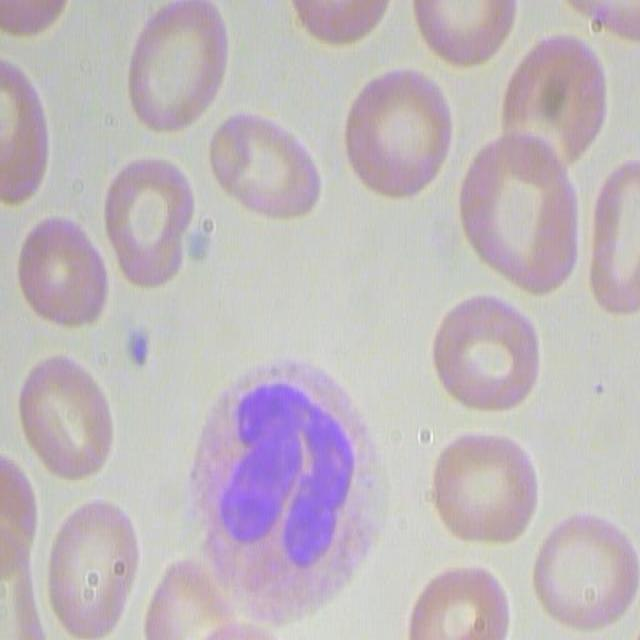RBC: (456, 132, 583, 296), (337, 66, 453, 205), (431, 287, 547, 417), (122, 2, 230, 138), (501, 30, 610, 163), (427, 422, 542, 546), (41, 491, 137, 636), (210, 112, 326, 229), (528, 507, 636, 631), (99, 148, 191, 289), (19, 354, 117, 486), (12, 214, 112, 334), (571, 155, 640, 311), (404, 560, 512, 640), (0, 54, 54, 212), (406, 0, 515, 71), (284, 0, 400, 47)
WBC: (172, 370, 387, 609)
platelets: (120, 318, 163, 374)
